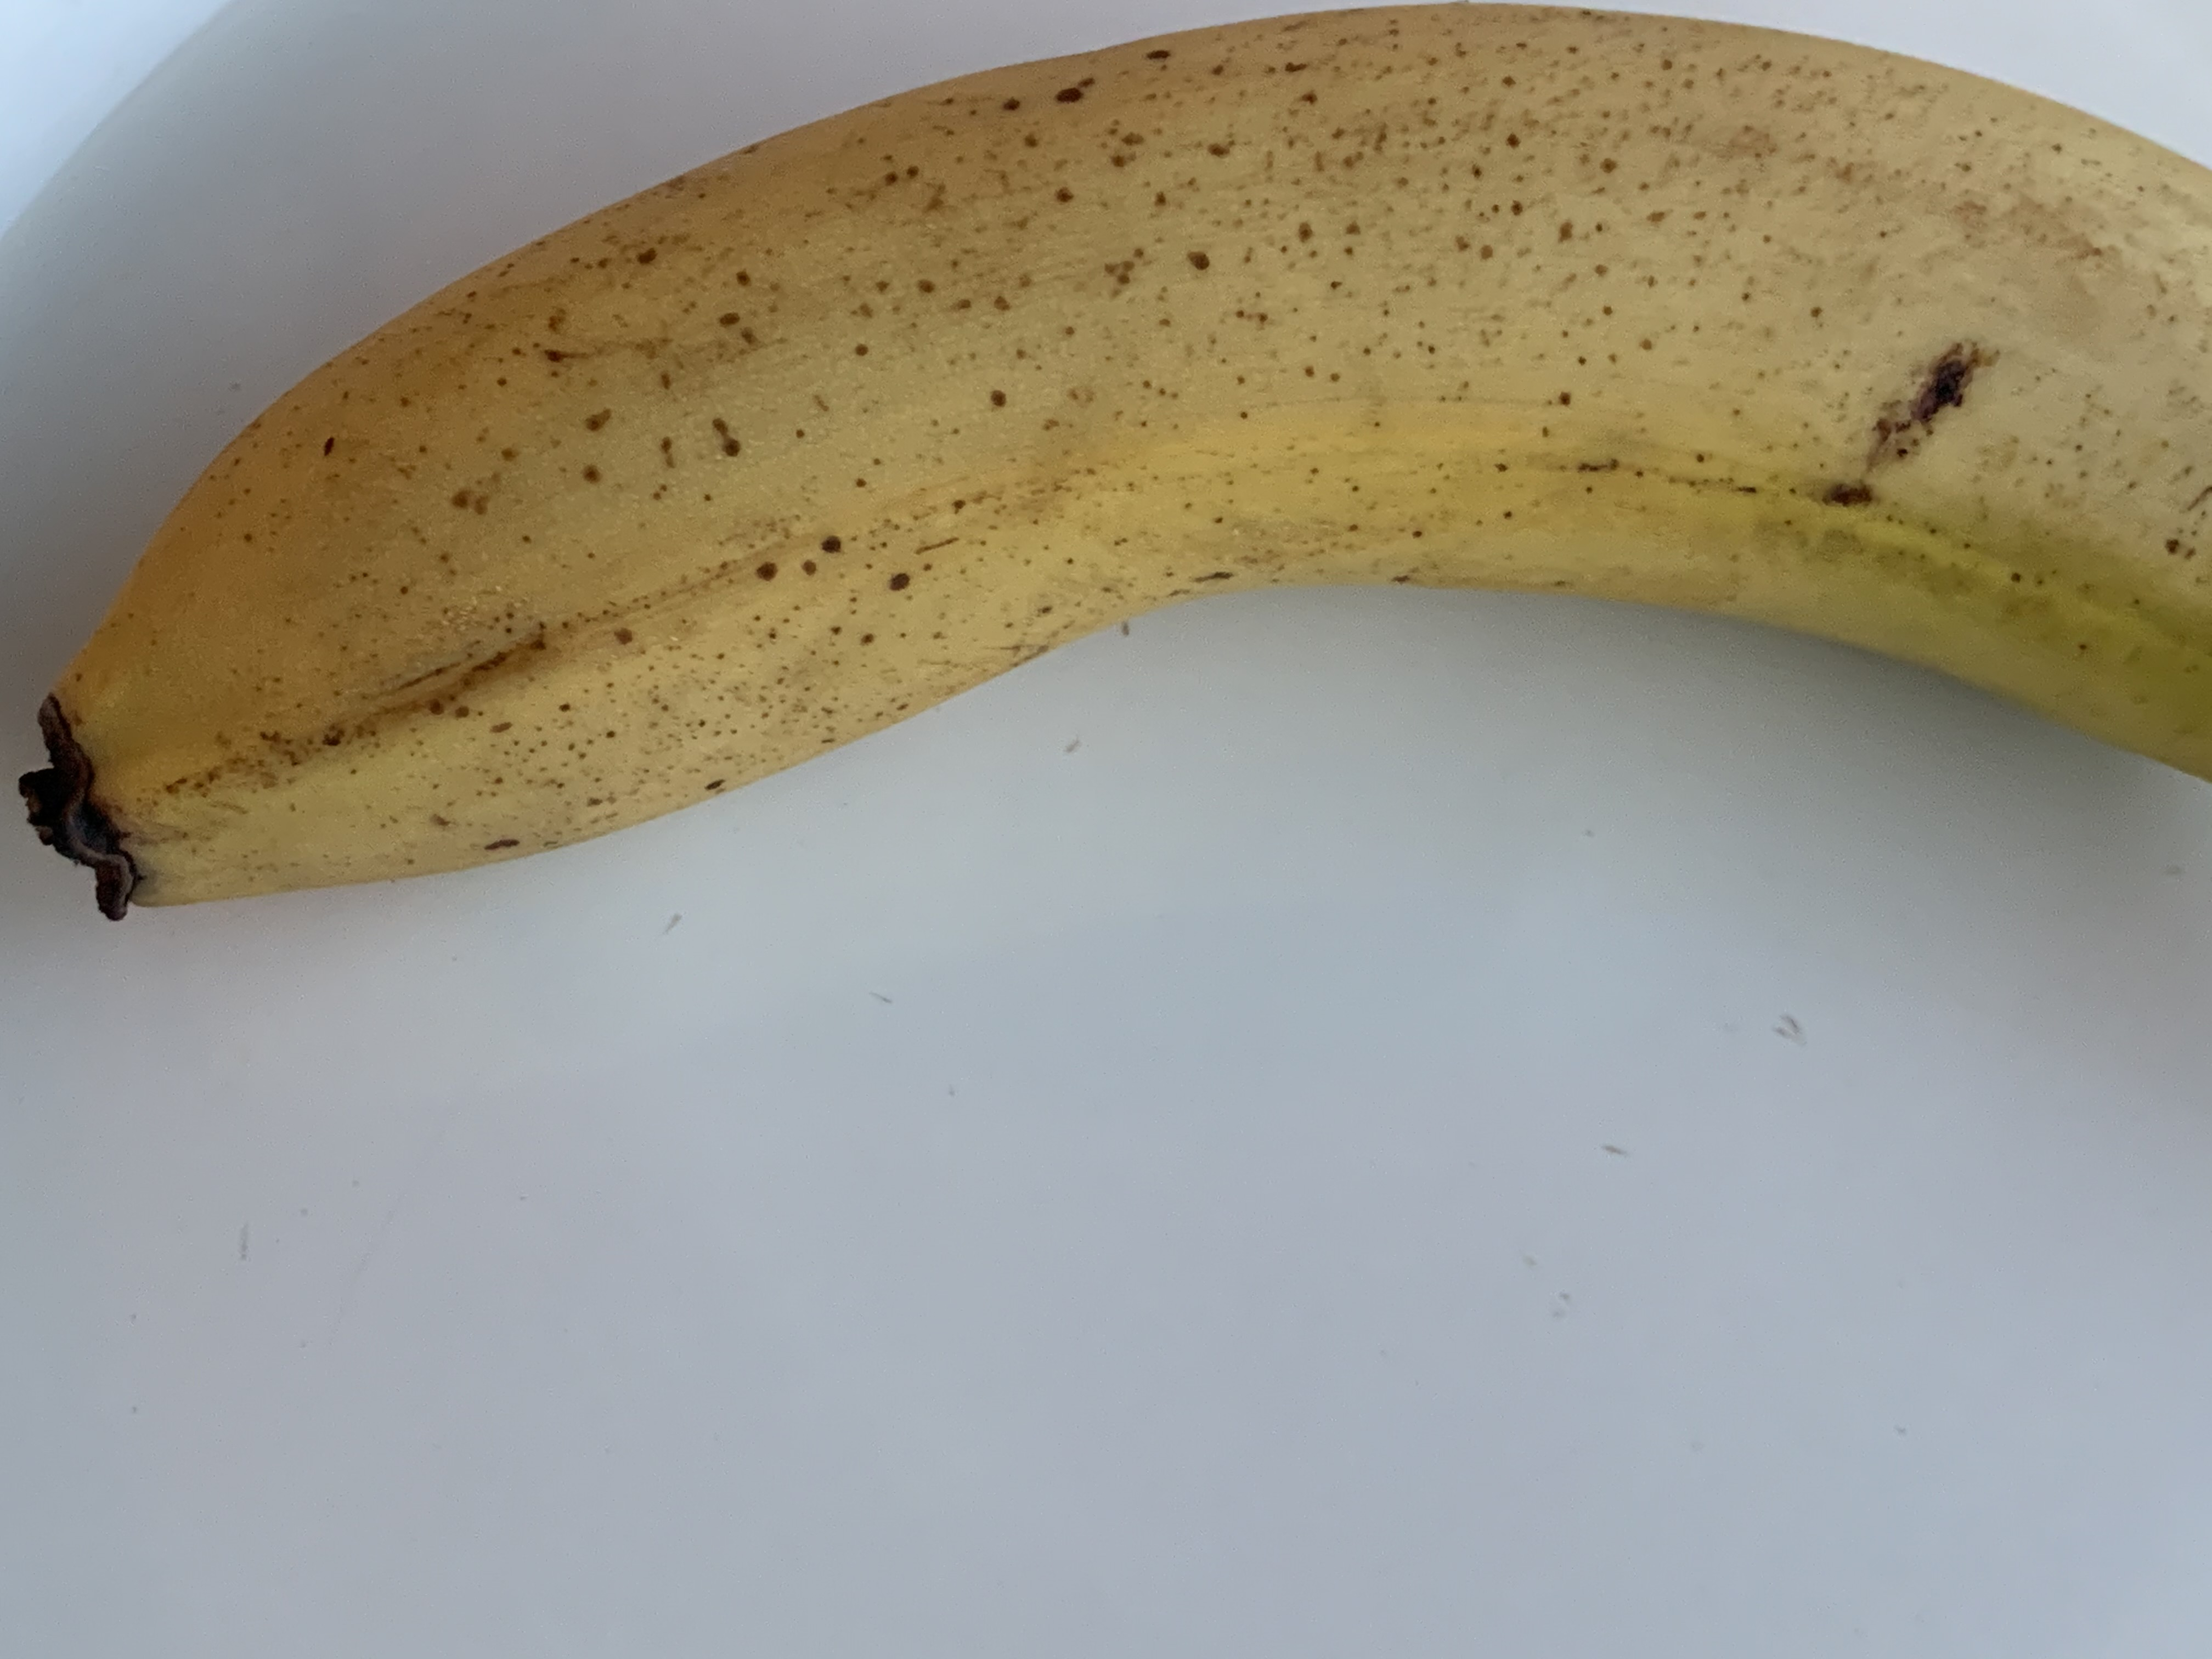banana: (16, 16, 2212, 946)
